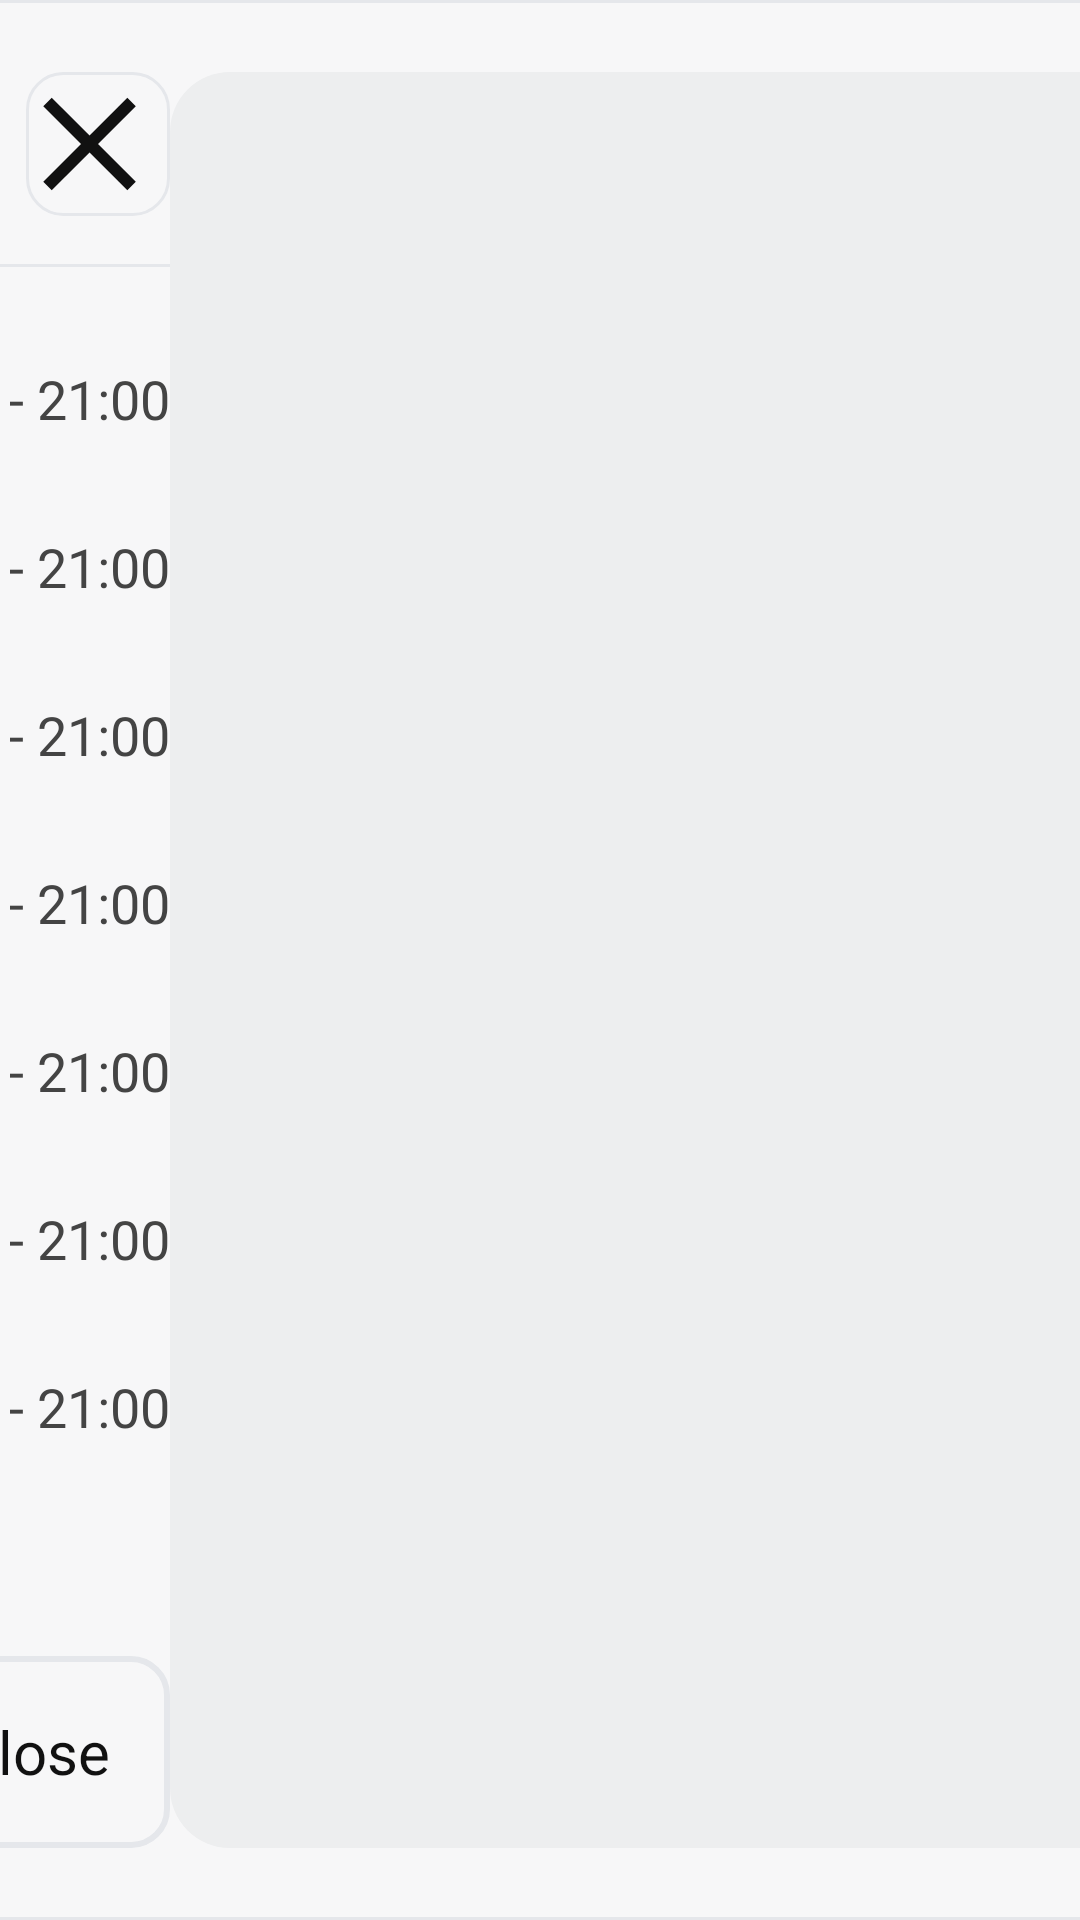

Icons on this 1080 x 1920 Android screen, each with its box as box(x1, y1, x2, y2):
Close: box(43, 98, 136, 190)
